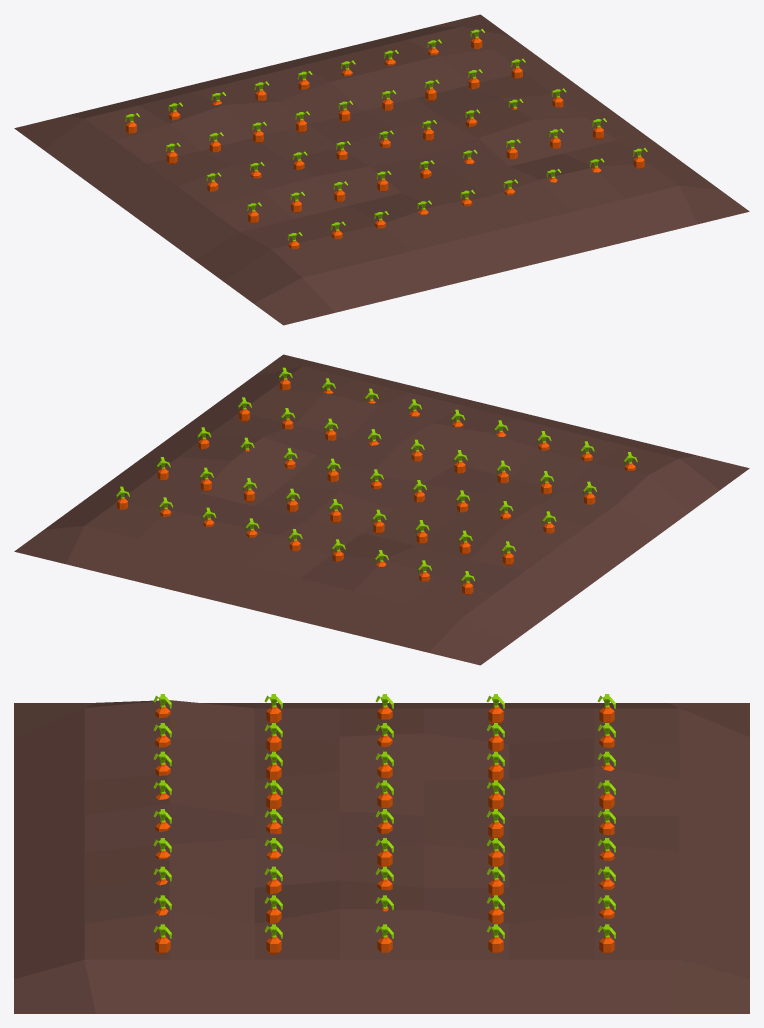
Rendered from CarrotFarm.fbx.
3 views of the same model, one above another, from view 1: azimuth 30°, elevation 25°; view 2: azimuth 150°, elevation 25°; view 3: azimuth 270°, elevation 25° (orthographic). The views are drawn at different scales.
Parts seen in each view (by area): view 1: Plane.001; view 2: Plane.001; view 3: Plane.001.
Part boxes in pixels (bbox=[...]): Plane.001: bbox=[14, 14, 749, 325]; Plane.001: bbox=[14, 354, 749, 665]; Plane.001: bbox=[14, 694, 749, 1013].
Size of the model in its own units: 2457 by 192 by 2457.
